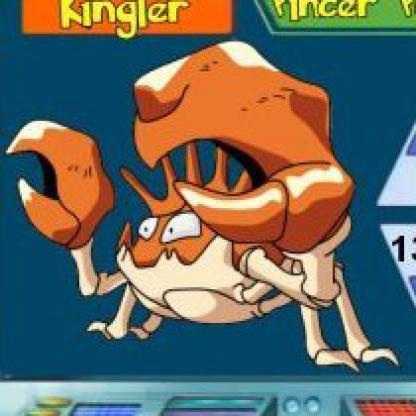Kingler: (3, 40, 398, 371)
